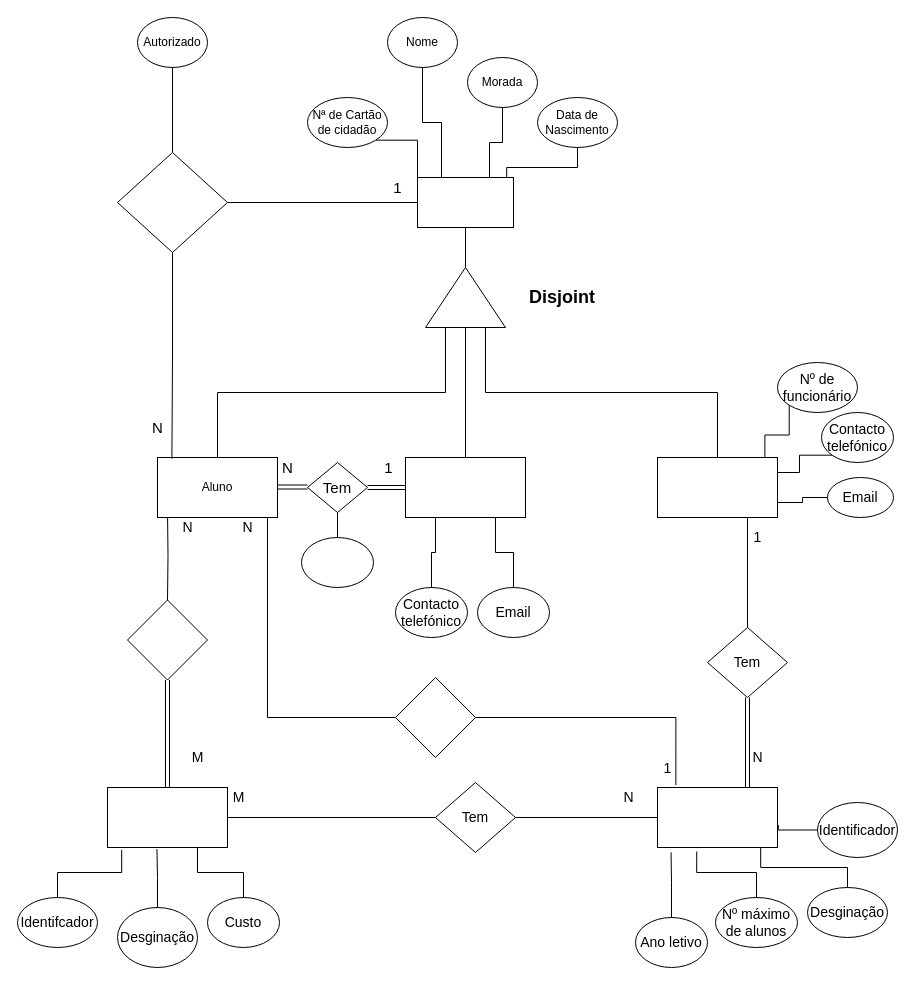
Some shapes in this 915 by 985 pixel diagram are drawn without their labels. Each missing label, with the centre of its shape:
"Atividade" goes at (x=167, y=817).
"Encarregado de Educação" goes at (x=465, y=487).
"Entrega/Levanta" goes at (x=172, y=202).
"Frequenta" goes at (x=167, y=639).
"IS-A" goes at (x=465, y=297).
"Pertence" goes at (x=435, y=717).
"Pessoa" goes at (x=465, y=202).
"Professor" goes at (x=717, y=487).
"Relação" goes at (x=337, y=562).
"Turma" goes at (x=717, y=817).
